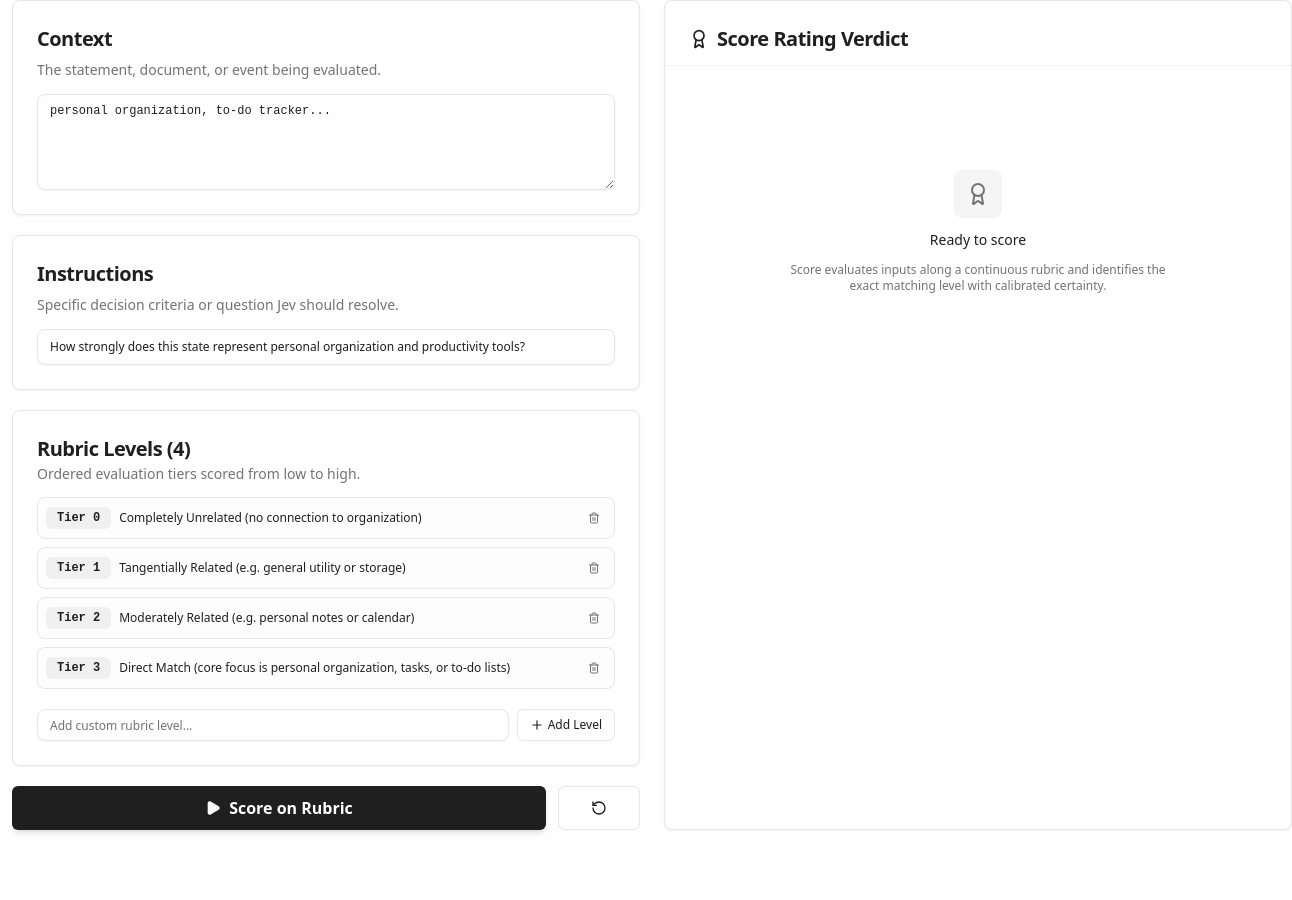
Test: UI Components & User Workflows › renders QuestionScoreView and scores state against rubric without redundant cards
Click the button "Score on Rubric".
click(279, 808)  # box [12,786,546,830]
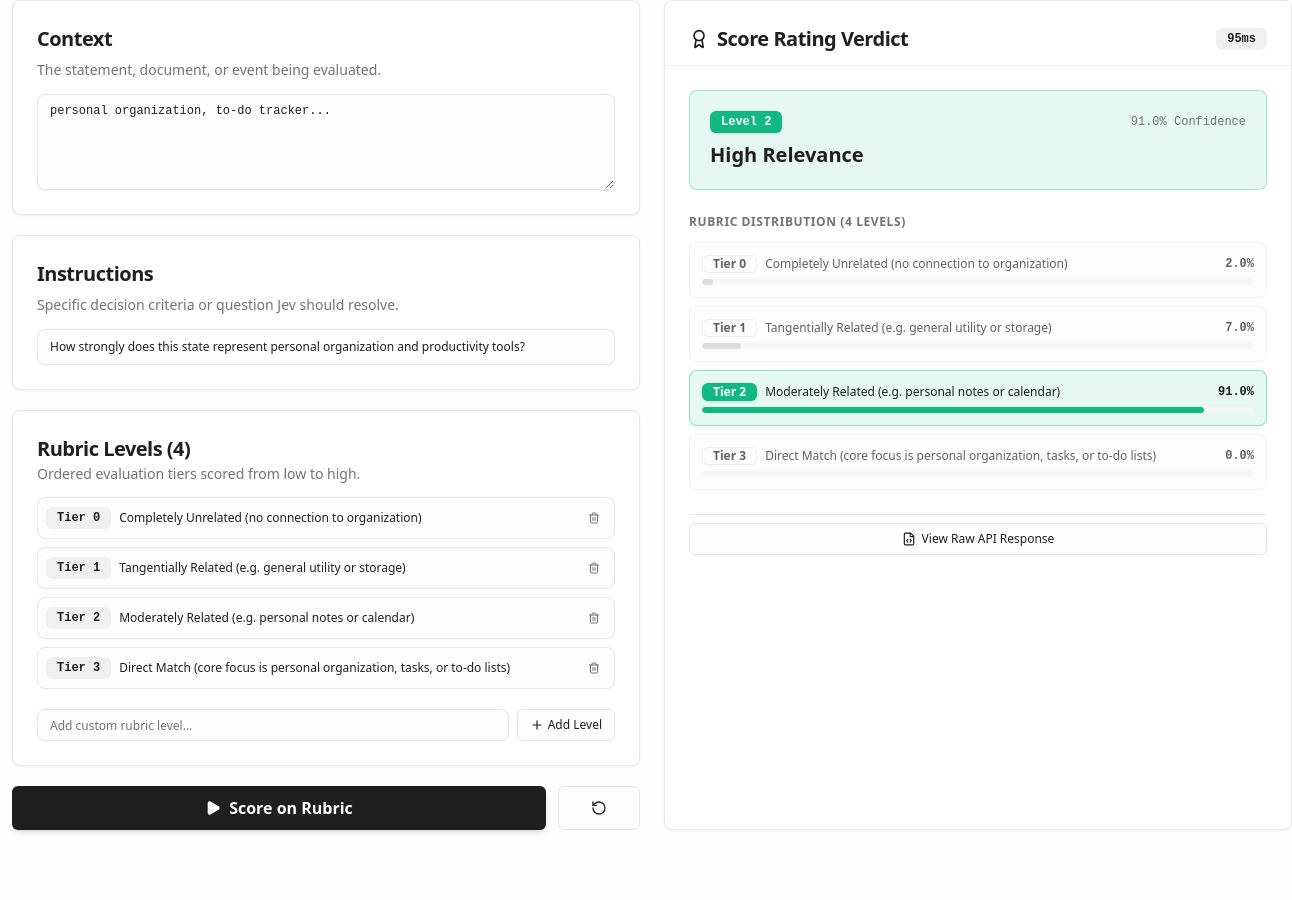
Check: the text "High Relevance" is shown, box [710,141,864,168]
Check: the text "Level 2" is shown, box [710,111,782,133]
